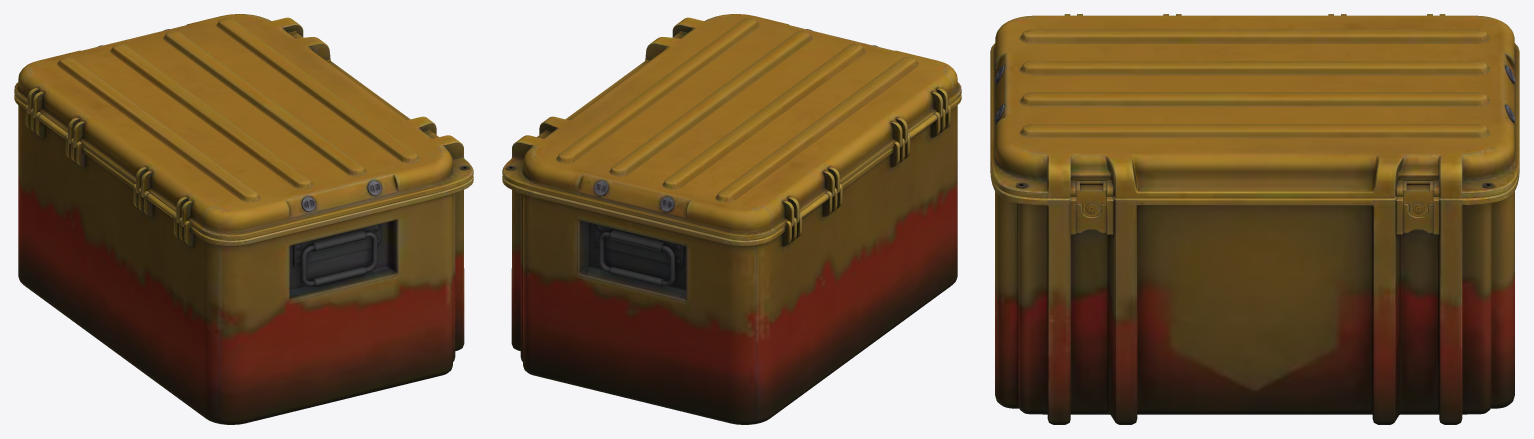
The model's file is csgo_drop_crate_dangerzone.glb.
3 renders of one model, left to right at view 1: azimuth 30°, elevation 25°; view 2: azimuth 150°, elevation 25°; view 3: azimuth 270°, elevation 25°, orthographic. The views are drawn at different scales.
Visible parts, largest first — view 1: models\props\crates\csgo_drop_crate_dangerzone.vmdl_c.csgo_d; view 2: models\props\crates\csgo_drop_crate_dangerzone.vmdl_c.csgo_d; view 3: models\props\crates\csgo_drop_crate_dangerzone.vmdl_c.csgo_d.
Boxes of the visible parts, x1,y1,x2,y2 form: models\props\crates\csgo_drop_crate_dangerzone.vmdl_c.csgo_d: (14, 14, 473, 424); models\props\crates\csgo_drop_crate_dangerzone.vmdl_c.csgo_d: (502, 14, 961, 424); models\props\crates\csgo_drop_crate_dangerzone.vmdl_c.csgo_d: (990, 14, 1519, 424).
Size of the model in its own units: 0.8161 by 0.6169 by 1.12.
Materials: 3 (3 with a texture image).
